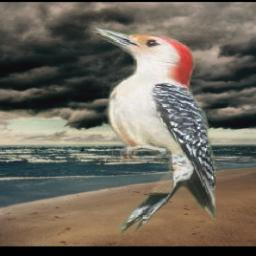Woodpecker: (85, 25, 216, 235)
